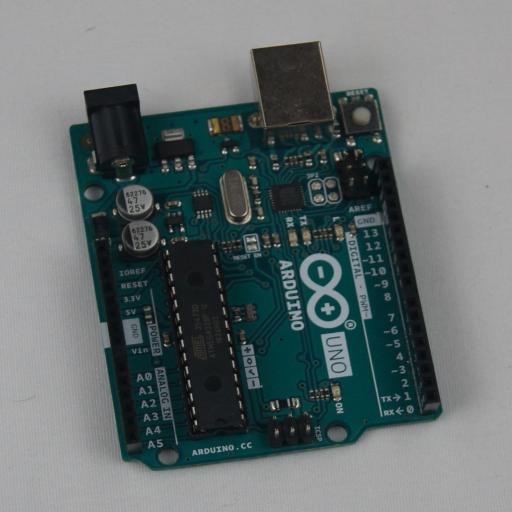Arduino Uno -Green-: (70, 41, 442, 471)
